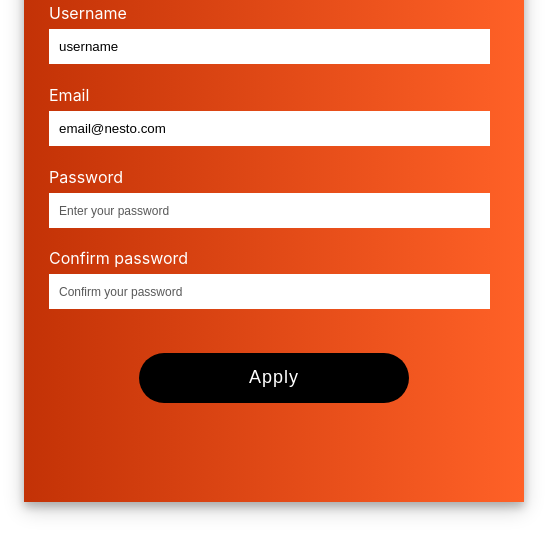
Test: ManageAccount › Test validation
(page scrolled)
Click the button "Apply": (274, 378) 139,353 -> 409,403
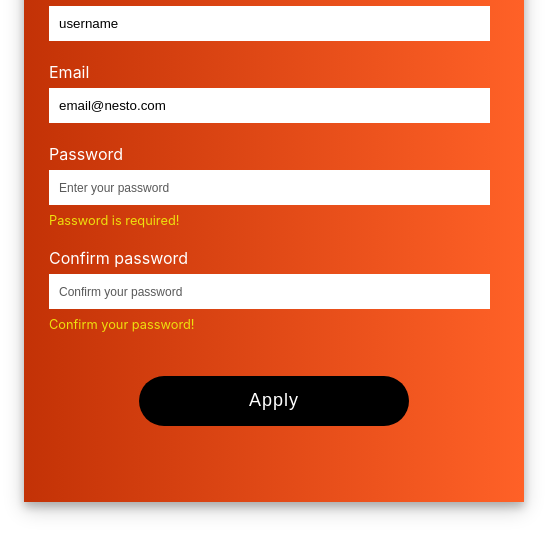
Check: the text "Password is required!" is shown, box 49,213 -> 179,228
Check: the text "Confirm your password!" is shown, box 49,318 -> 194,332
